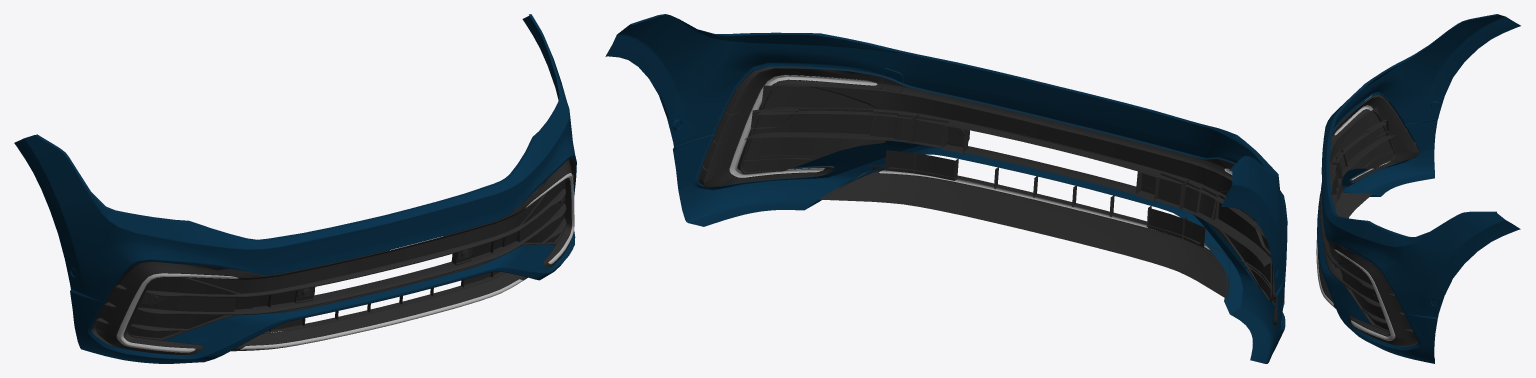
3 views of the same model, side by side, from view 1: azimuth 30°, elevation 25°; view 2: azimuth 150°, elevation 25°; view 3: azimuth 270°, elevation 25° (orthographic). The views are drawn at different scales.
Parts seen in each view (by area): view 1: front bumper 1; view 2: front bumper 1; view 3: front bumper 1.
Boxes of the visible parts, x1,y1,x2,y2 form: front bumper 1: [14, 14, 576, 363]; front bumper 1: [605, 14, 1287, 363]; front bumper 1: [1316, 14, 1520, 363].
Bounding box in the file's own units: 1.89 × 0.6723 × 0.8057.
3 materials, 1 textured.
